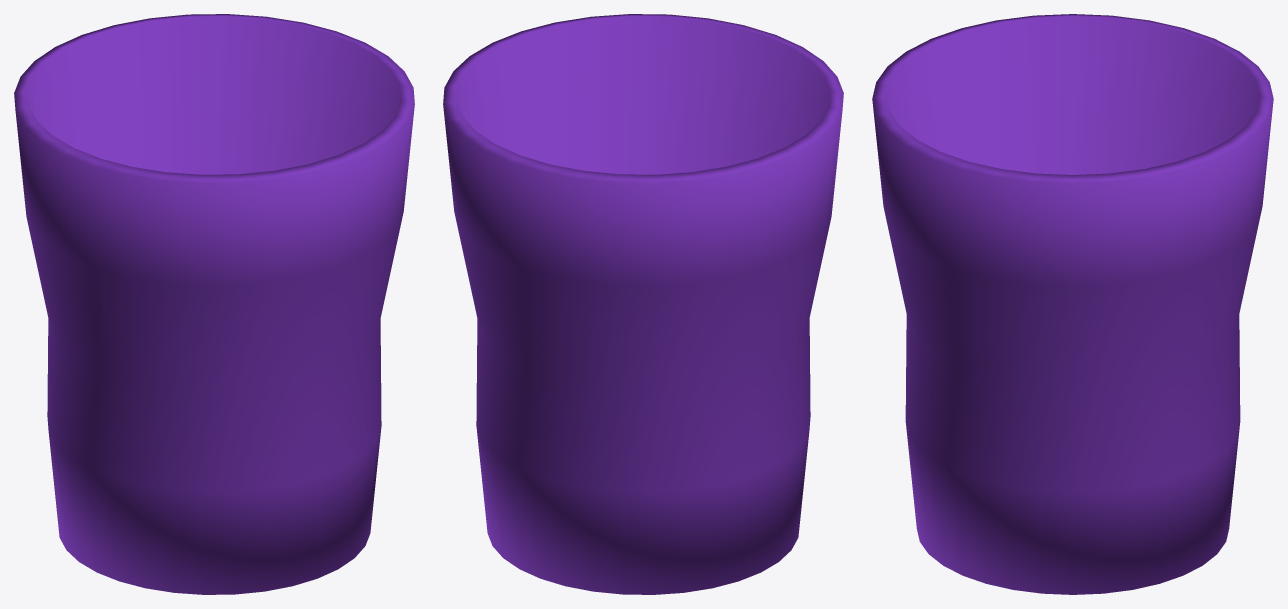
The model's file is CinemaSoftdrinkBecher.fbx.
The picture shows the model from 3 angles, left to right: view 1: azimuth 30°, elevation 25°; view 2: azimuth 150°, elevation 25°; view 3: azimuth 270°, elevation 25°; orthographic projection.
Parts seen in each view (by area): view 1: Softdrink Becher; view 2: Softdrink Becher; view 3: Softdrink Becher.
Boxes of the visible parts, x1,y1,x2,y2 form: Softdrink Becher: (14,14,414,594); Softdrink Becher: (443,14,843,594); Softdrink Becher: (872,14,1273,594).
Size of the model in its own units: 51.89 by 61.74 by 51.89.
